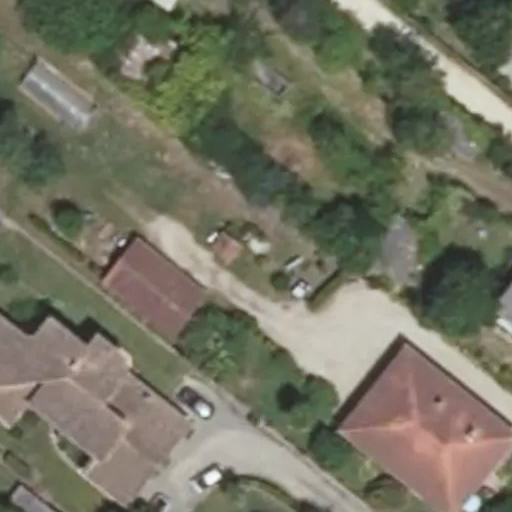pool: (241, 239, 270, 243)
